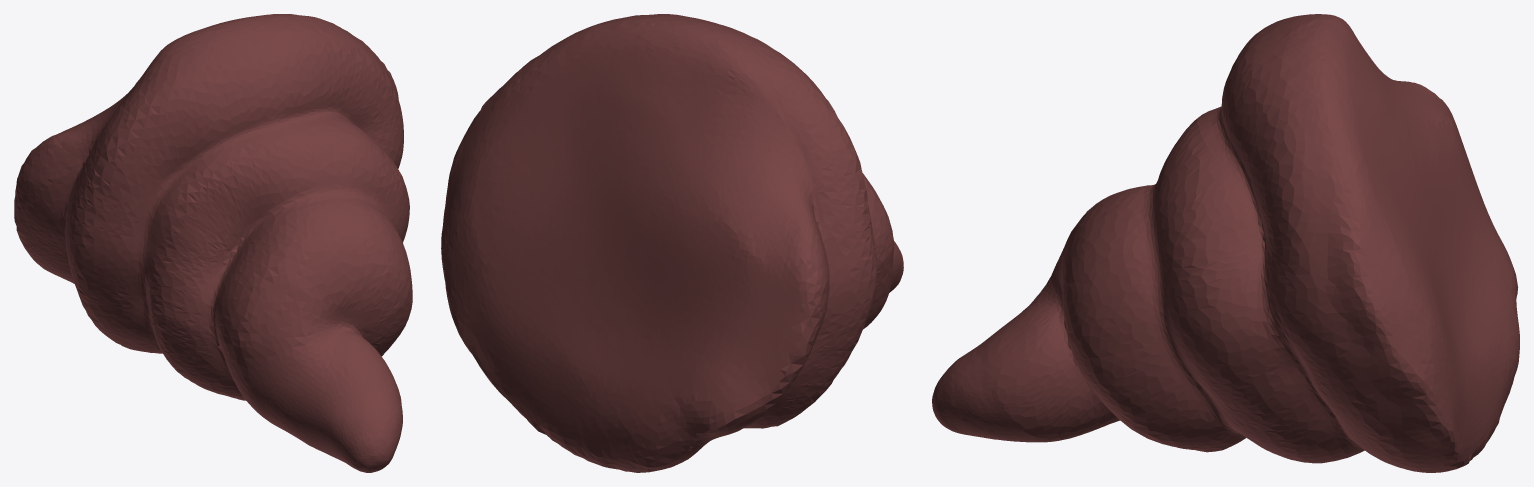
3 views of the same model, side by side, from view 1: azimuth 30°, elevation 25°; view 2: azimuth 150°, elevation 25°; view 3: azimuth 270°, elevation 25° (orthographic). The views are drawn at different scales.
Bounding box in the file's own units: 2 × 1.89 × 2.42.
